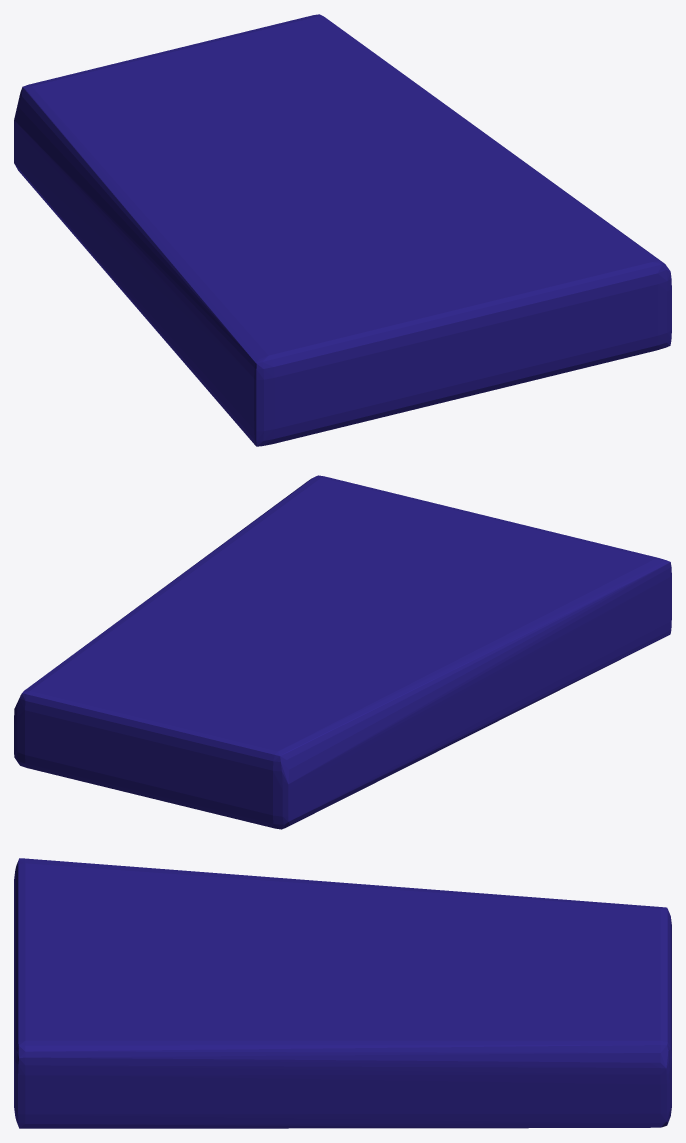
File: left_hip_pitch_link_part_18.obj
3 views of the same model, one above another, from view 1: azimuth 30°, elevation 25°; view 2: azimuth 150°, elevation 25°; view 3: azimuth 270°, elevation 25° (orthographic). The views are drawn at different scales.
Bounding box in the file's own units: 0.0895 × 0.0179 × 0.129.
